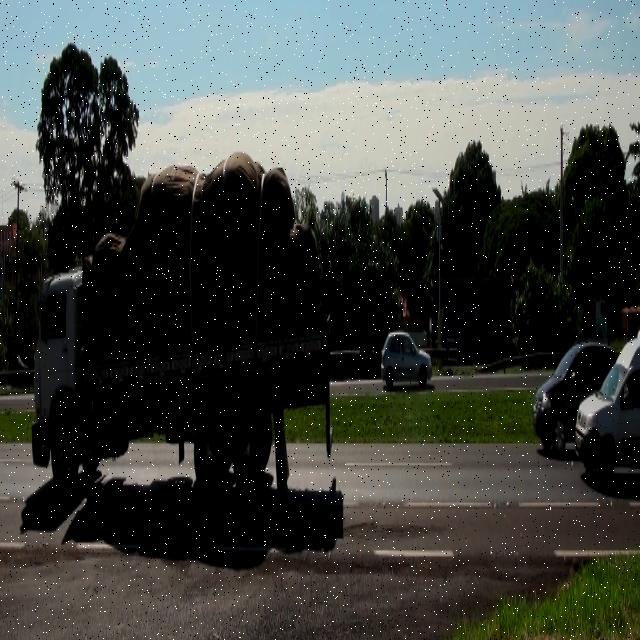-axle: (232, 402, 267, 494), (193, 400, 226, 496), (49, 413, 80, 497)
